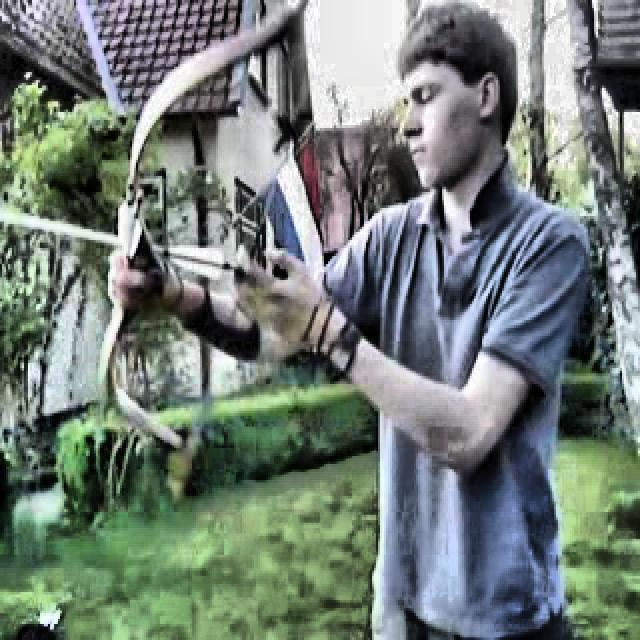P: (113, 8, 593, 635)
